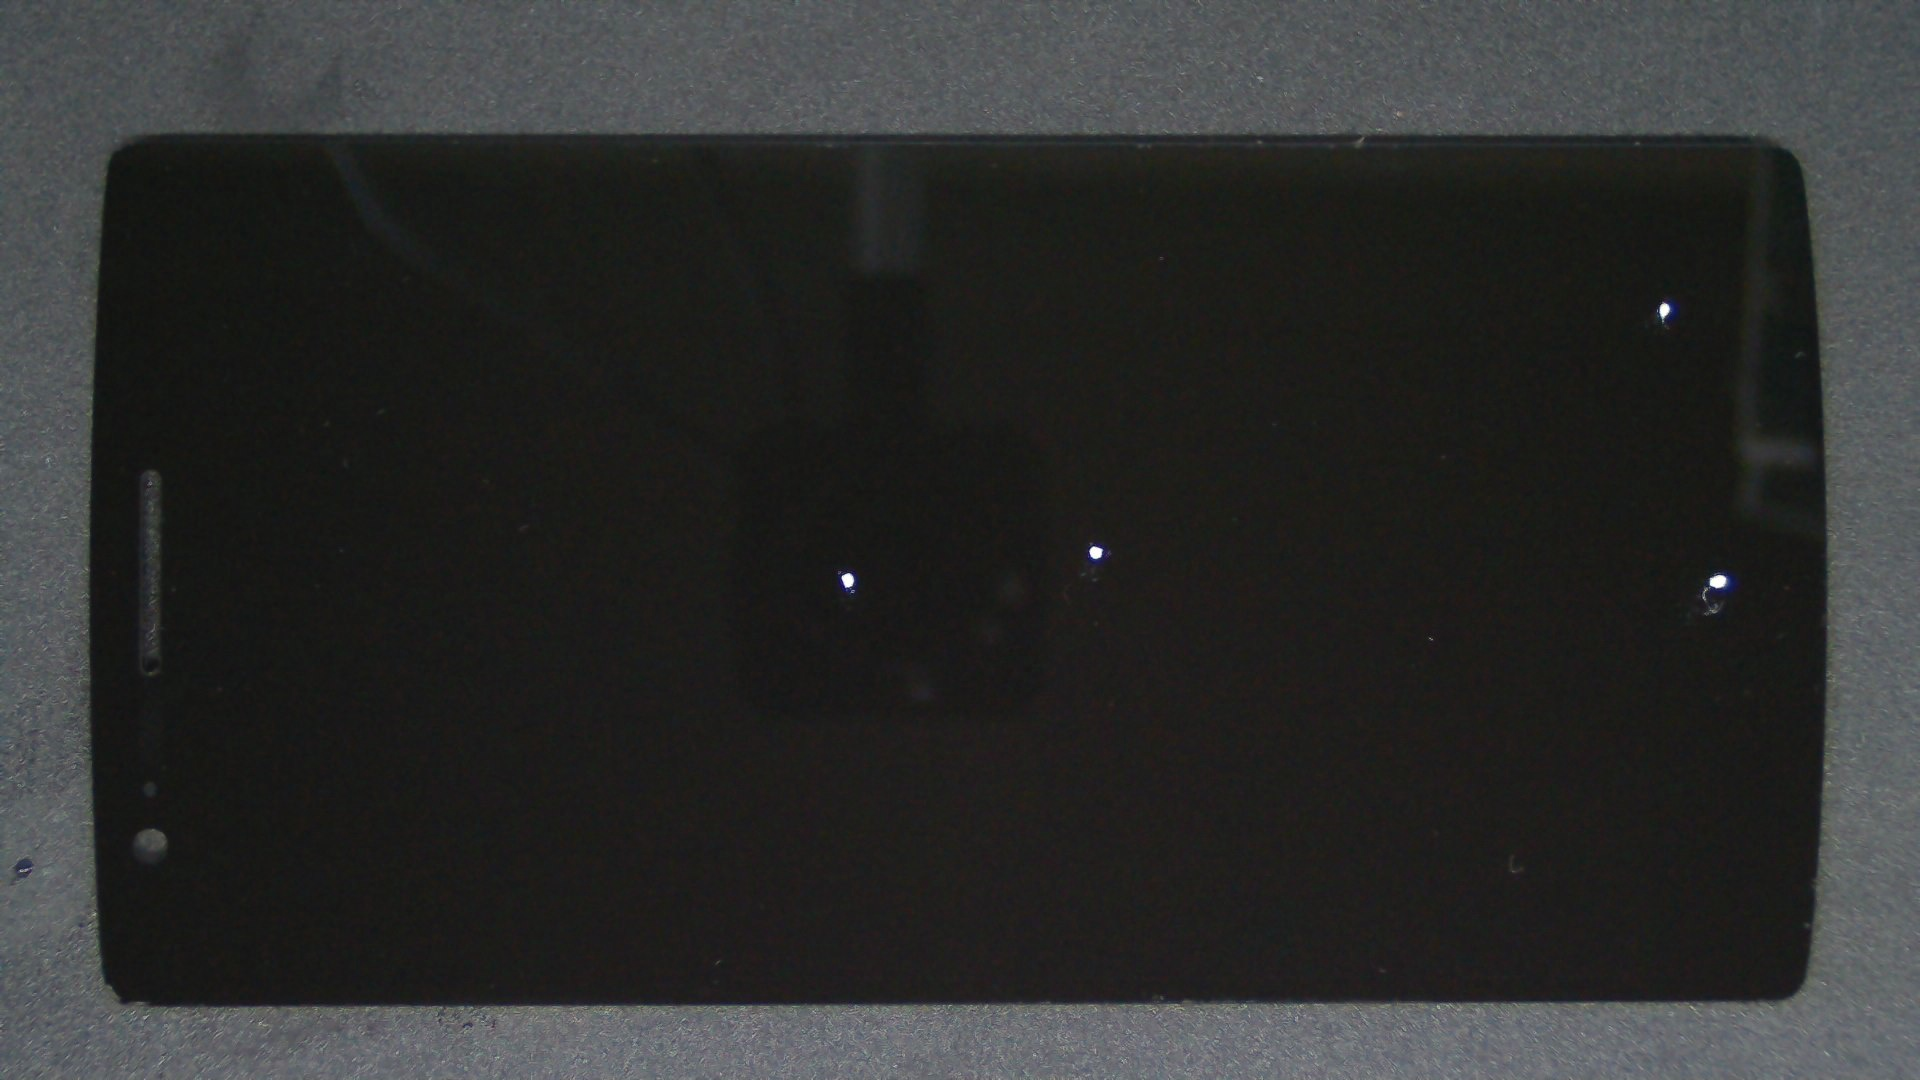oil: (861, 285, 1920, 857), (546, 272, 1636, 816), (425, 285, 1270, 856), (832, 149, 1920, 454)
